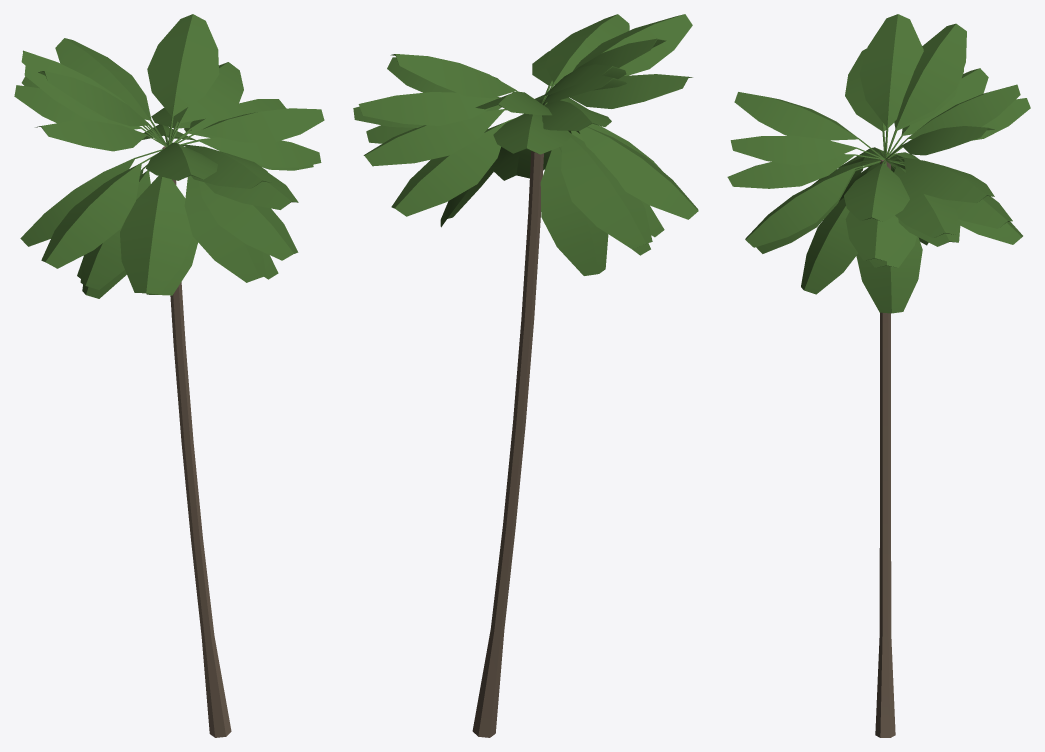
Rendered from coconut_palm.mid.glb.
3 renders of one model, left to right at view 1: azimuth 30°, elevation 25°; view 2: azimuth 150°, elevation 25°; view 3: azimuth 270°, elevation 25°, orthographic. The views are drawn at different scales.
Parts seen in each view (by area): view 1: coconut_palm; view 2: coconut_palm; view 3: coconut_palm.
Part boxes in pixels (x1,y1,x2,y2): coconut_palm: [14, 14, 324, 737]; coconut_palm: [353, 14, 698, 737]; coconut_palm: [727, 14, 1030, 737].
Size of the model in its own units: 8.88 by 21.05 by 8.97.
